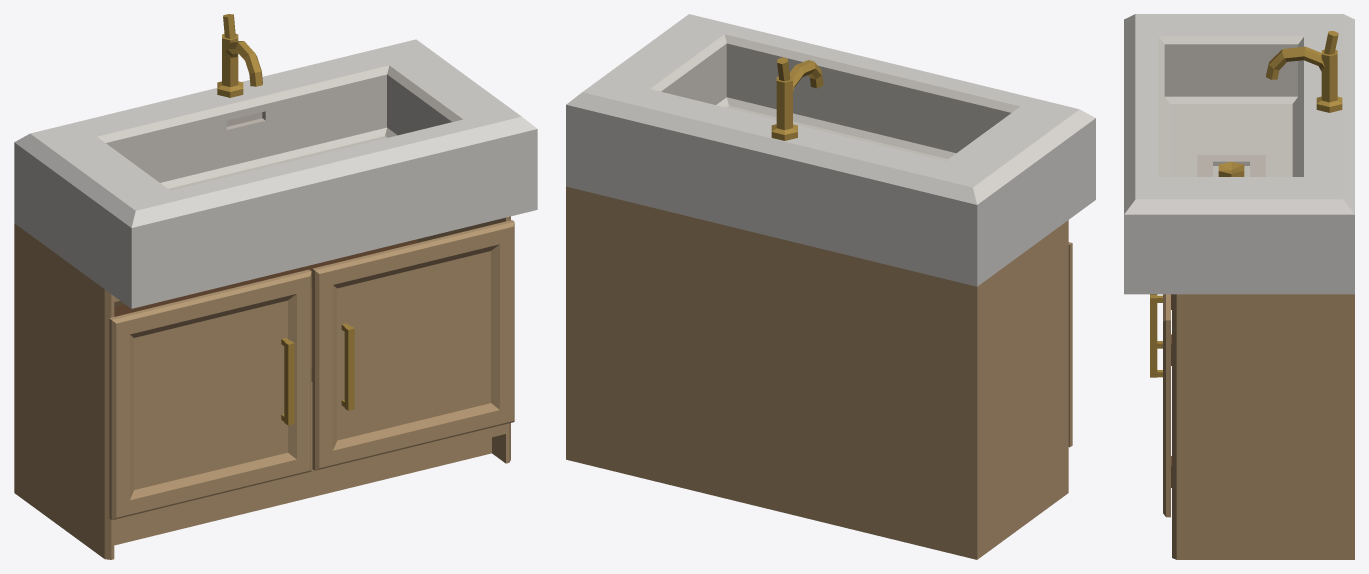
The model's file is vanity-basin-unit-3becd9.glb.
3 renders of one model, left to right at view 1: azimuth 30°, elevation 25°; view 2: azimuth 150°, elevation 25°; view 3: azimuth 270°, elevation 25°, orthographic. The views are drawn at different scales.
Parts seen in each view (by area): view 1: vanity-basin-unit, door-r, door-l, tap; view 2: vanity-basin-unit, tap, door-l; view 3: vanity-basin-unit, door-r, tap.
Part boxes in pixels (x1,y1,x2,y2): vanity-basin-unit: (14,39,537,559); door-r: (312,220,514,470); door-l: (109,269,311,520); tap: (222,34,262,87); vanity-basin-unit: (566,14,1095,559); tap: (776,60,823,130); door-l: (1068,242,1072,447); vanity-basin-unit: (1124,14,1354,559); door-r: (1150,294,1171,517); tap: (1266,46,1337,102).
Bounding box in the file's own units: 1 × 1.03 × 0.5.
